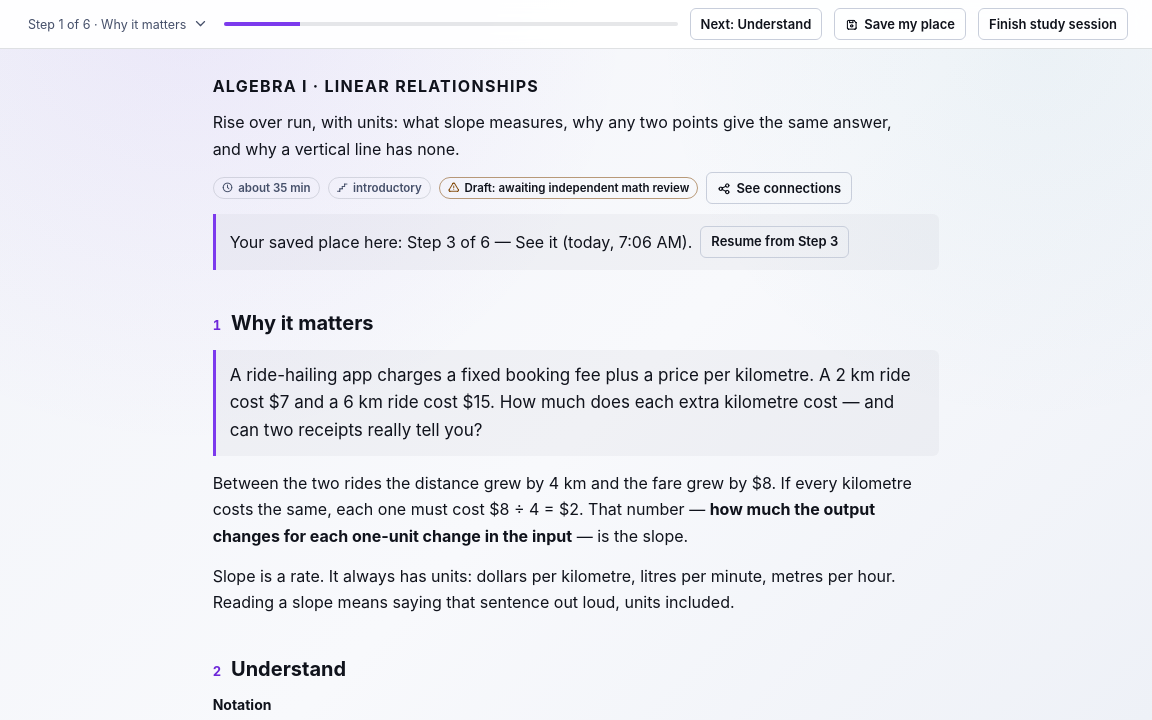
Test: Lesson › shows where the learner is among the six steps, in words
Check: the heading "1 Why it matters" is shown, box [213,311,374,335]
Click the button "Step 1 of 6 · Why it matters" at point(118, 24), box [24,10,212,38]
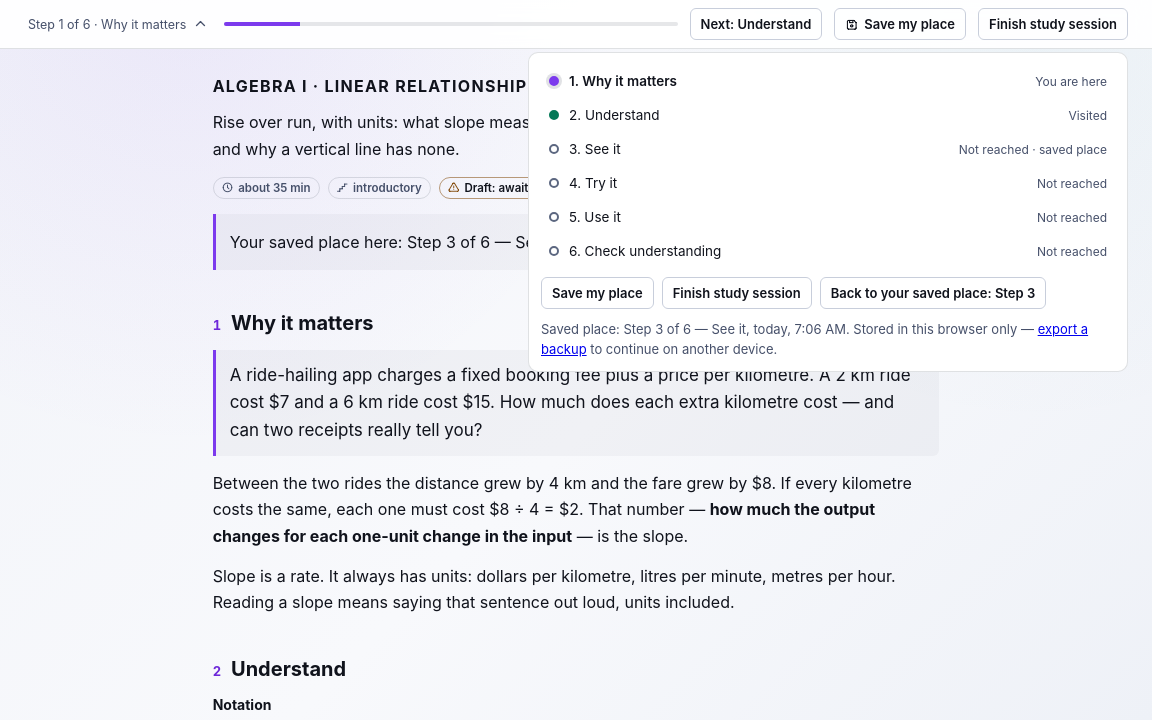
Check: the button "1. Why it matters You are here" is shown, box [541,65,1115,97]
Check: the button "2. Understand Visited" is shown, box [541,99,1115,131]
Check: the button "3. See it Not reached · saved place" is shown, box [541,133,1115,165]
